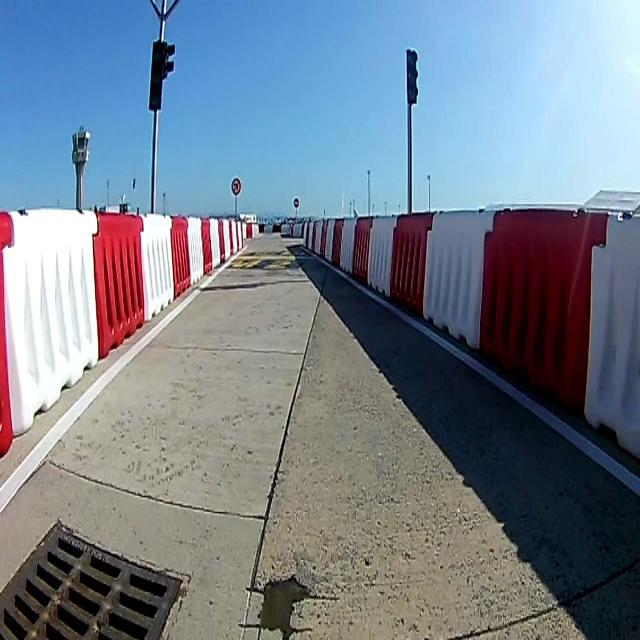soladonulmez: (231, 178, 241, 194)
